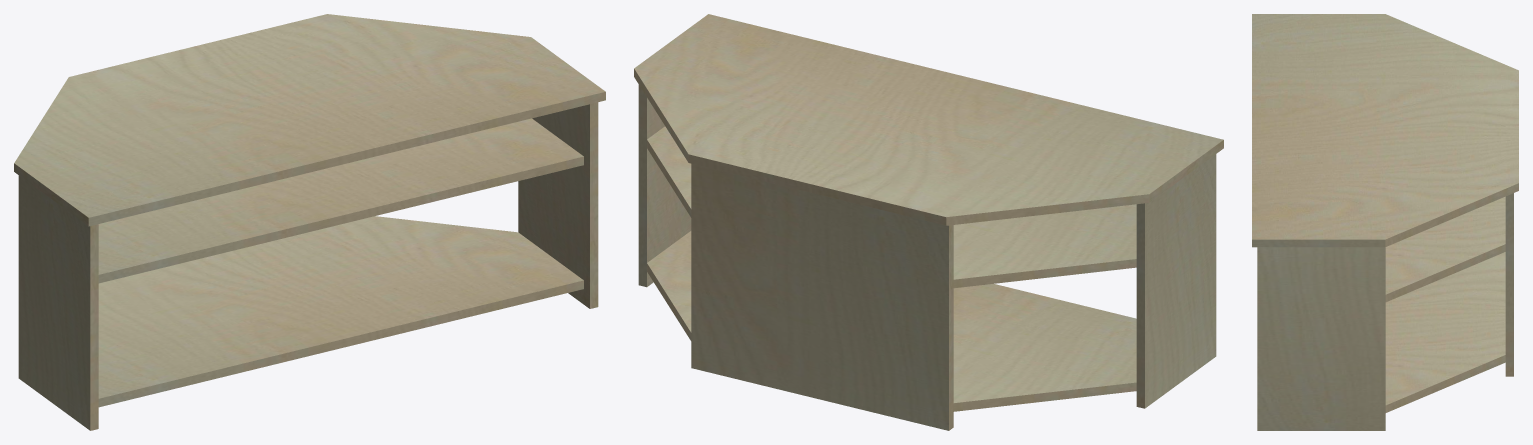
Rendered from table_3d.dae.
3 renders of one model, left to right at view 1: azimuth 30°, elevation 25°; view 2: azimuth 150°, elevation 25°; view 3: azimuth 270°, elevation 25°, orthographic. The views are drawn at different scales.
Parts seen in each view (by area): view 1: Bottom_Plate (×2), Top, Front_Leg (×2); view 2: Top, Back_Leg, Bottom_Plate (×2), Front_Leg (×2); view 3: Top, Front_Leg, Bottom_Plate (×2), Back_Leg.
Boxes of the visible parts, x1=… form: Bottom_Plate (×2): x1=98, y1=118, x2=583, y2=407; Top: x1=14, y1=14, x2=605, y2=226; Front_Leg (×2): x1=18, y1=102, x2=598, y2=430; Top: x1=634, y1=14, x2=1223, y2=225; Back_Leg: x1=691, y1=163, x2=953, y2=430; Bottom_Plate (×2): x1=647, y1=126, x2=1136, y2=411; Front_Leg (×2): x1=638, y1=85, x2=1216, y2=408; Top: x1=1252, y1=14, x2=1518, y2=247; Front_Leg: x1=1257, y1=247, x2=1385, y2=430; Bottom_Plate (×2): x1=1385, y1=196, x2=1505, y2=412; Back_Leg: x1=1505, y1=193, x2=1513, y2=376.
Bounding box in the file's own units: 39.37 × 19.69 × 15.75.
Materials: 1 (1 with a texture image).
